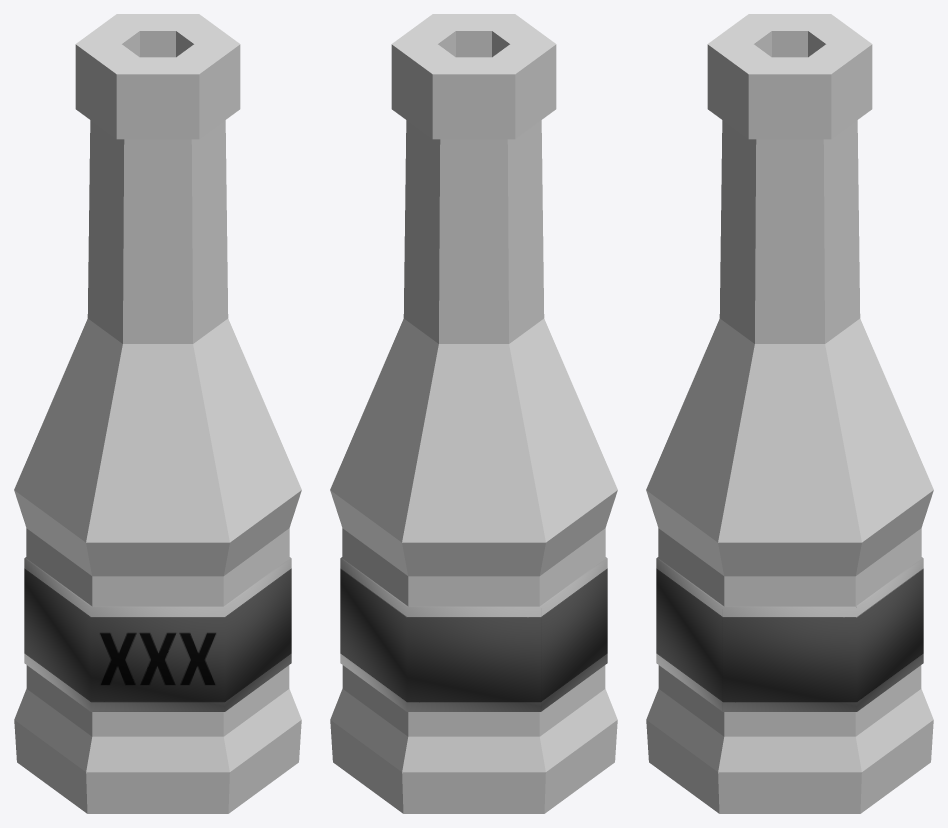
File: bottle.fbx
3 renders of one model, left to right at view 1: azimuth 30°, elevation 25°; view 2: azimuth 150°, elevation 25°; view 3: azimuth 270°, elevation 25°, orthographic.
Visible parts, largest first — view 1: Bottle; view 2: Bottle; view 3: Bottle.
Part boxes in pixels (bbox=[...]): Bottle: bbox=[14, 14, 301, 813]; Bottle: bbox=[330, 14, 617, 813]; Bottle: bbox=[646, 14, 933, 813].
Bounding box in the file's own units: 219 × 696 × 253.
3 materials, 1 textured.
